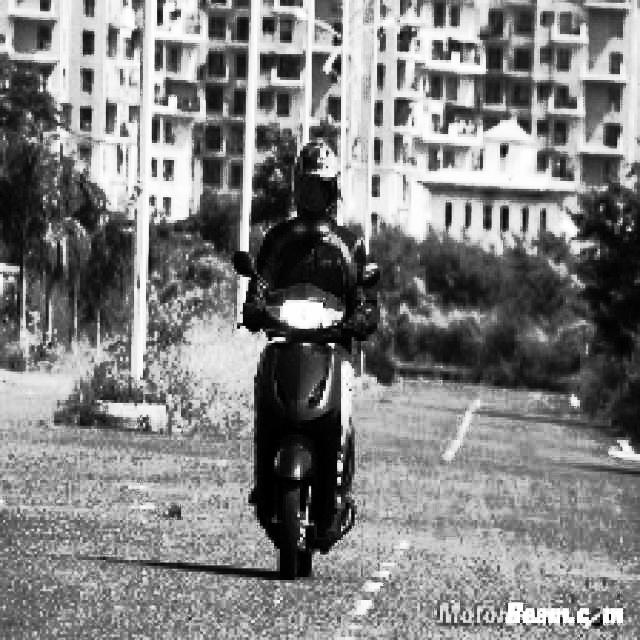Bike: (239, 254, 367, 594)
